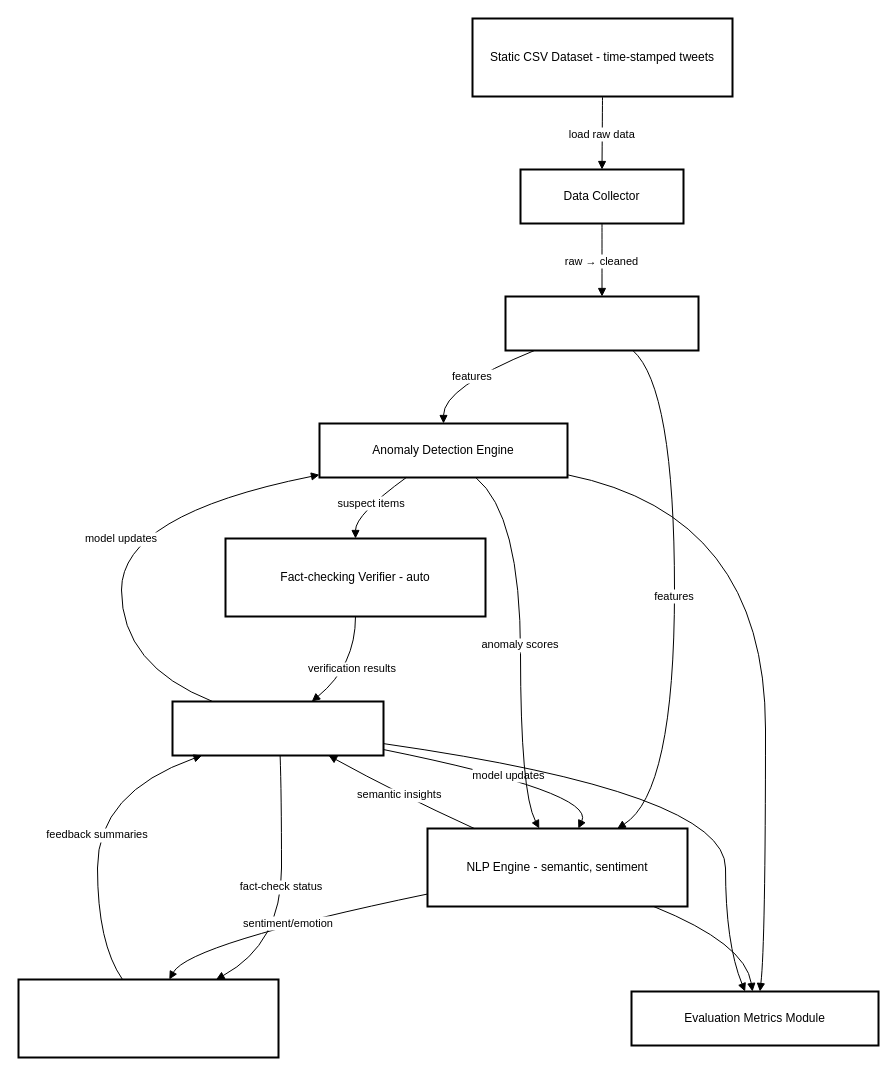
Image size: 896x1075. Some labels were removed from this diagram. The centre of each missing label's shape, as x and y in pixels:
"Crisis Dashboard - Visualization Layer" belongs at pixel 148 1018.
"Feedback Mechanism" belongs at pixel 277 728.
"Preprocessing Unit" belongs at pixel 601 323.
